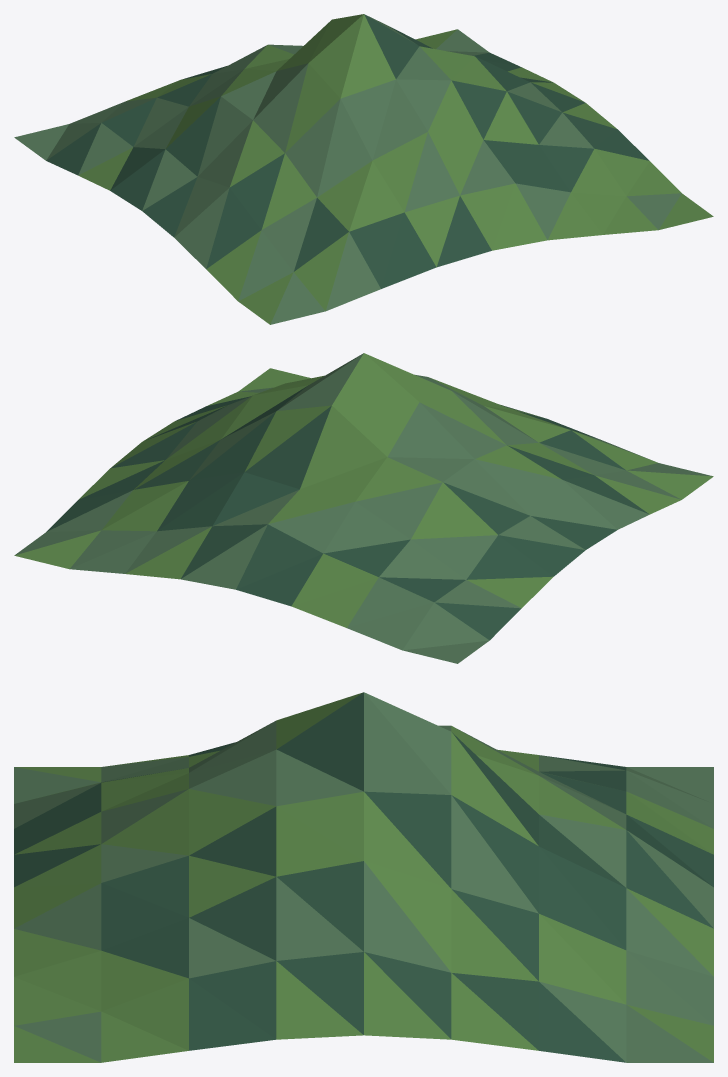
File: landscape-hill.lod0.glb
The picture shows the model from 3 angles, top to bottom: view 1: azimuth 30°, elevation 25°; view 2: azimuth 150°, elevation 25°; view 3: azimuth 270°, elevation 25°; orthographic projection. The views are drawn at different scales.
Parts seen in each view (by area): view 1: landscape-hill__body; view 2: landscape-hill__body; view 3: landscape-hill__body.
Boxes of the visible parts, x1,y1,x2,y2 form: landscape-hill__body: (14, 14, 713, 324); landscape-hill__body: (14, 353, 713, 663); landscape-hill__body: (14, 692, 713, 1062).
Bounding box in the file's own units: 8 × 2.81 × 8.
